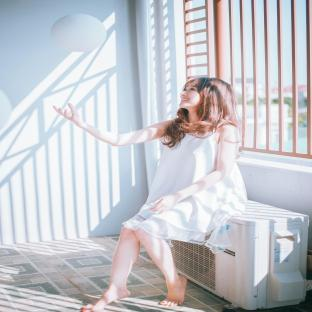Human: (59, 77, 246, 312)
